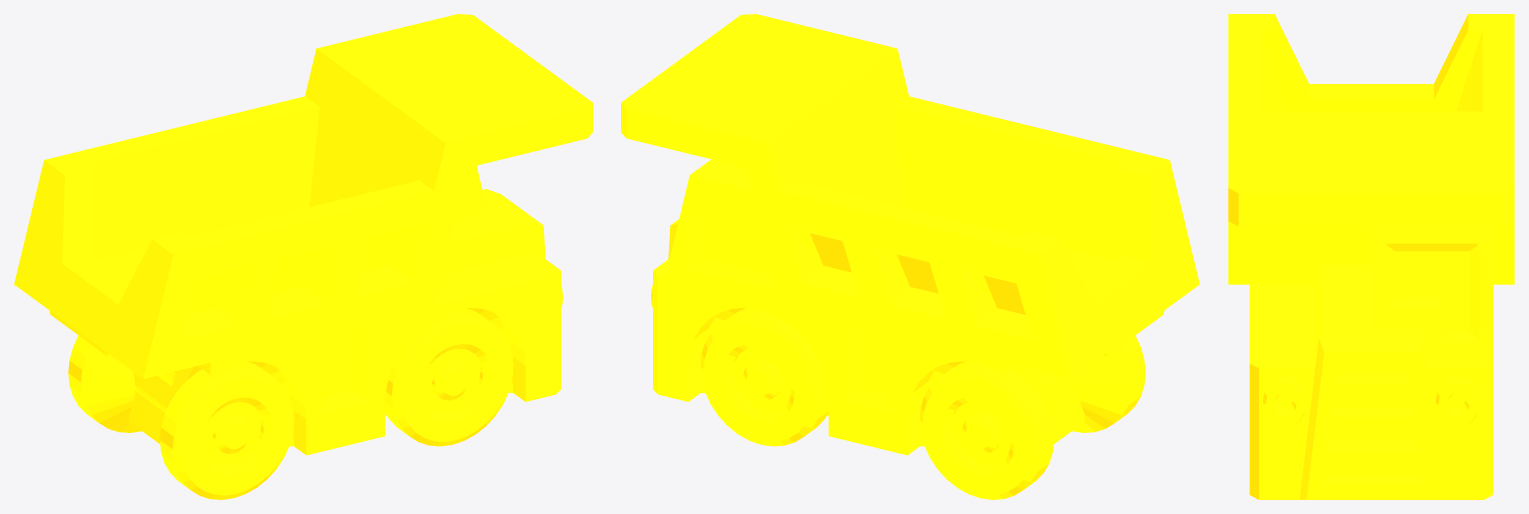
Rendered from truck02.gltf.
3 views of the same model, side by side, from view 1: azimuth 30°, elevation 25°; view 2: azimuth 150°, elevation 25°; view 3: azimuth 270°, elevation 25° (orthographic). The views are drawn at different scales.
Visible parts, largest first — view 1: mesh_0; view 2: mesh_0; view 3: mesh_0.
Part boxes in pixels (x1,y1,x2,y2): mesh_0: (14, 14, 592, 499); mesh_0: (621, 14, 1199, 499); mesh_0: (1228, 14, 1514, 499).
Bounding box in the file's own units: 20 × 13.28 × 9.86.
